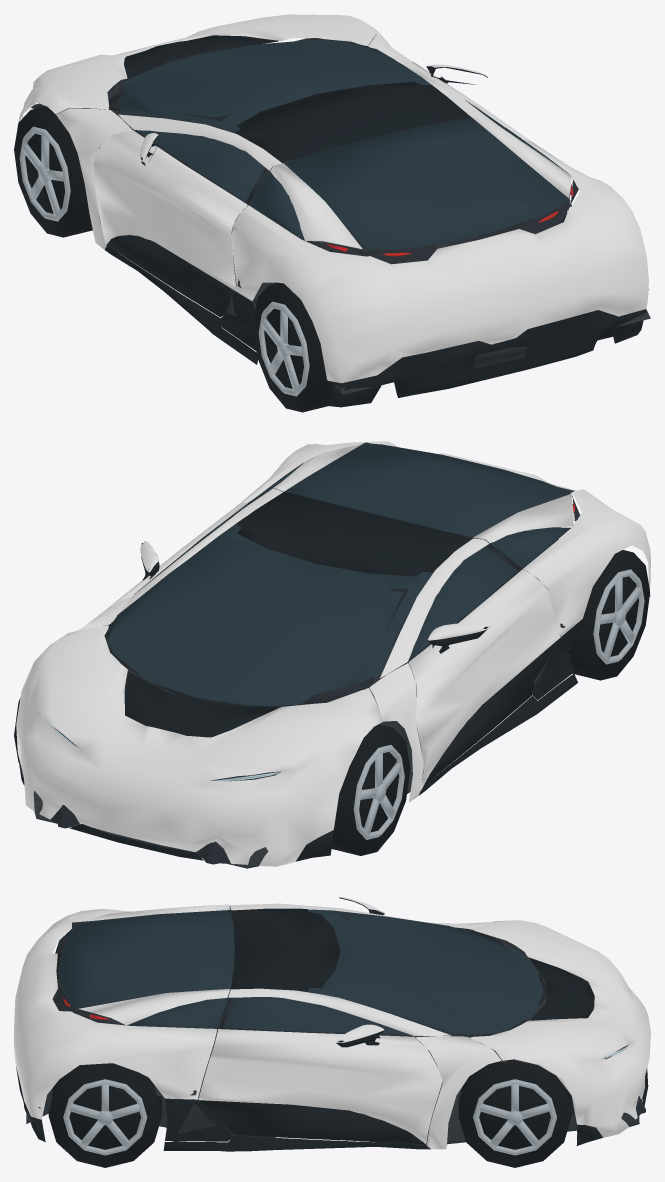
File: concept-v11-race.glb
The picture shows the model from 3 angles, top to bottom: view 1: azimuth 30°, elevation 25°; view 2: azimuth 150°, elevation 25°; view 3: azimuth 270°, elevation 25°; orthographic projection. The views are drawn at different scales.
Parts seen in each view (by area): view 1: Body; view 2: Body; view 3: Body.
Part boxes in pixels (x1,y1,x2,y2): Body: [14, 14, 650, 412]; Body: [14, 441, 650, 868]; Body: [14, 897, 650, 1167].
Size of the model in its own units: 2.12 by 1.04 by 3.95.
